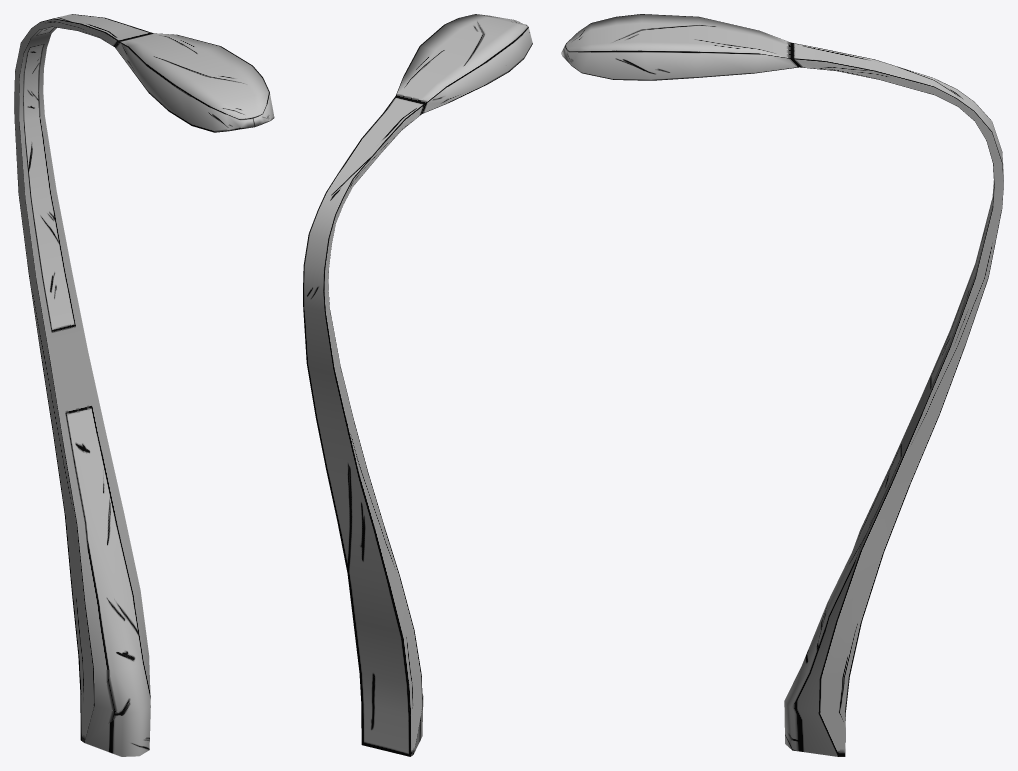
File: street-light.fbx
The picture shows the model from 3 angles, left to right: view 1: azimuth 30°, elevation 25°; view 2: azimuth 150°, elevation 25°; view 3: azimuth 270°, elevation 25°; orthographic projection. The views are drawn at different scales.
Visible parts, largest first — view 1: pCube1; view 2: pCube1; view 3: pCube1.
Part boxes in pixels (x1=…): pCube1: x1=14, y1=14, x2=274, y2=756; pCube1: x1=303, y1=14, x2=532, y2=756; pCube1: x1=561, y1=14, x2=1003, y2=756.
Bounding box in the file's own units: 1 × 8.91 × 5.03.
